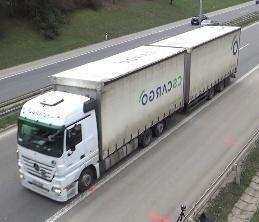Truck: (12, 27, 246, 212)
